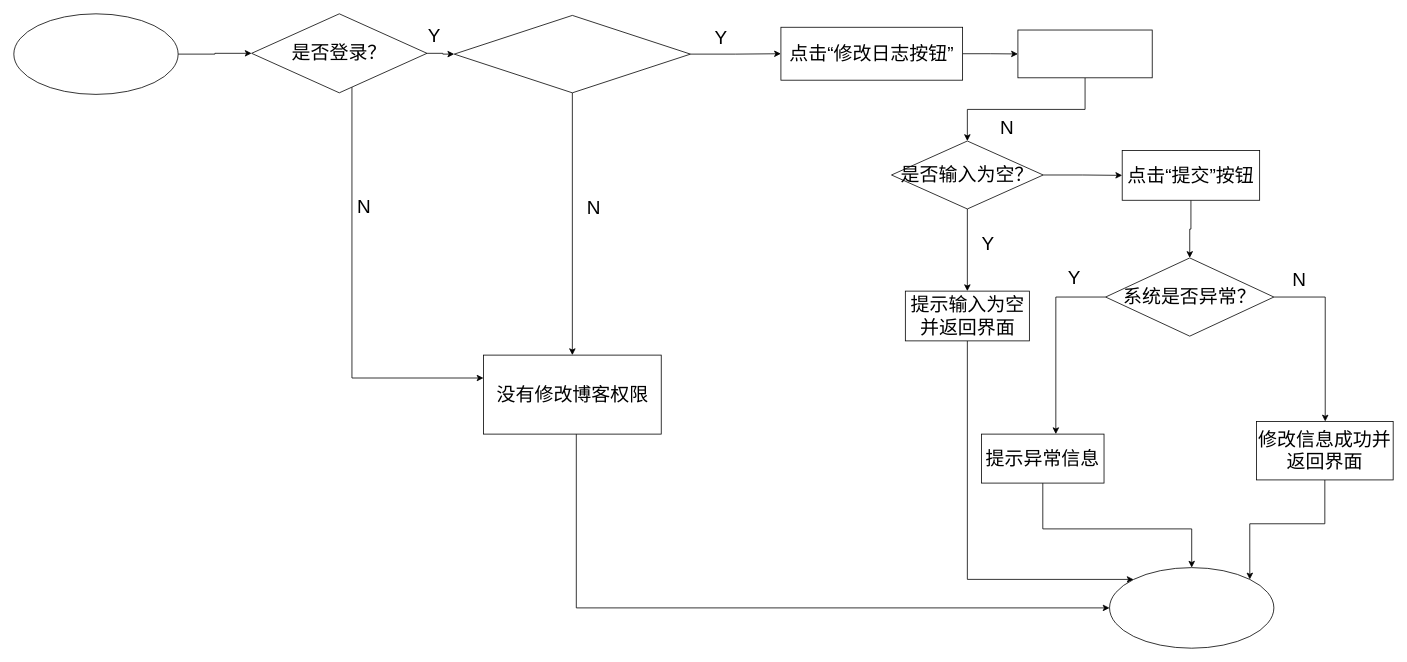
The diagram is 1407 pixels wide and 662 high, and some of its shapes have lost their labels. The box of each missing label's shape, as (x1, y1, x2, y2) in pixels:
开始: (13, 13, 178, 94)
是否为管理员或用户？: (453, 15, 690, 93)
结束: (1109, 567, 1274, 648)
输入修改信息: (1017, 29, 1152, 78)
